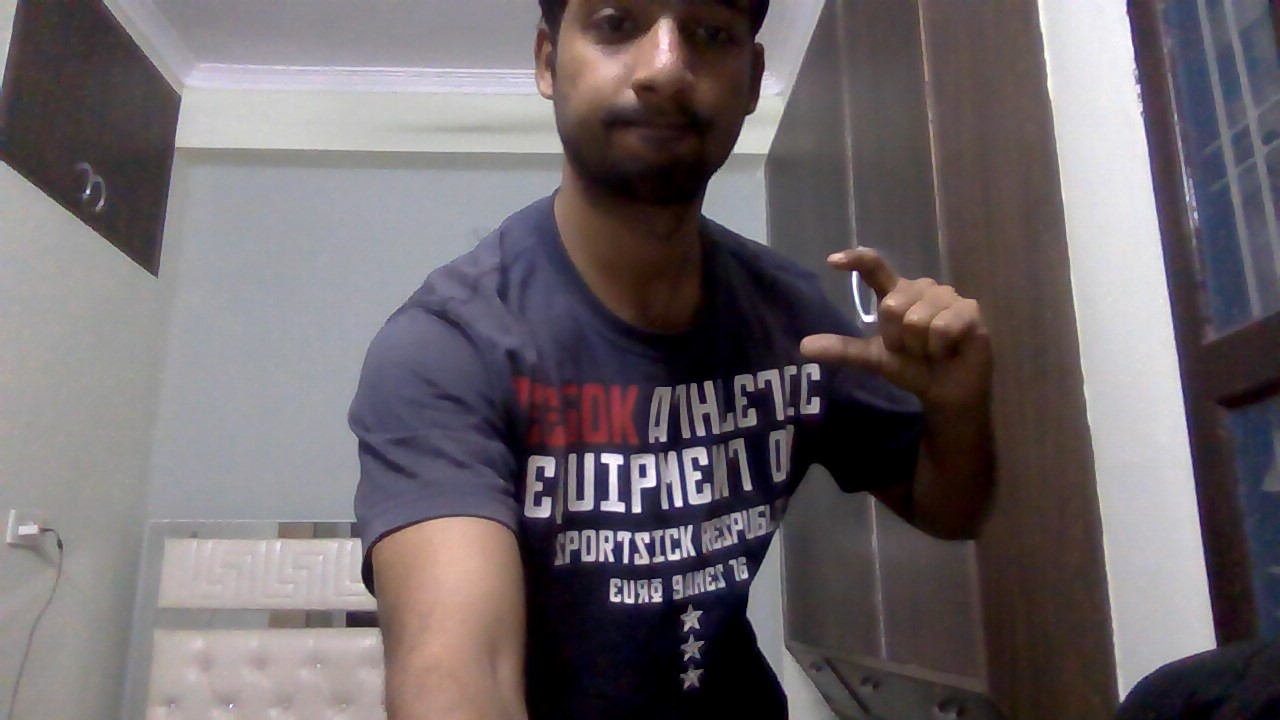Paste: (795, 243, 1007, 430)
